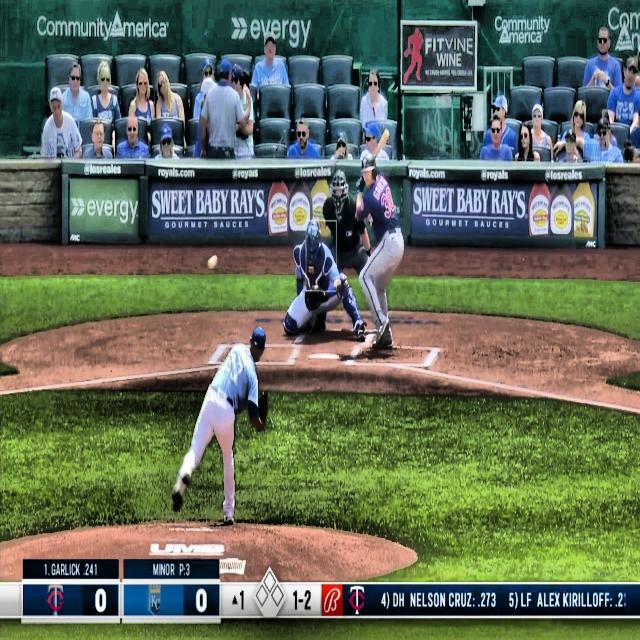baseball: (207, 255, 218, 271)
